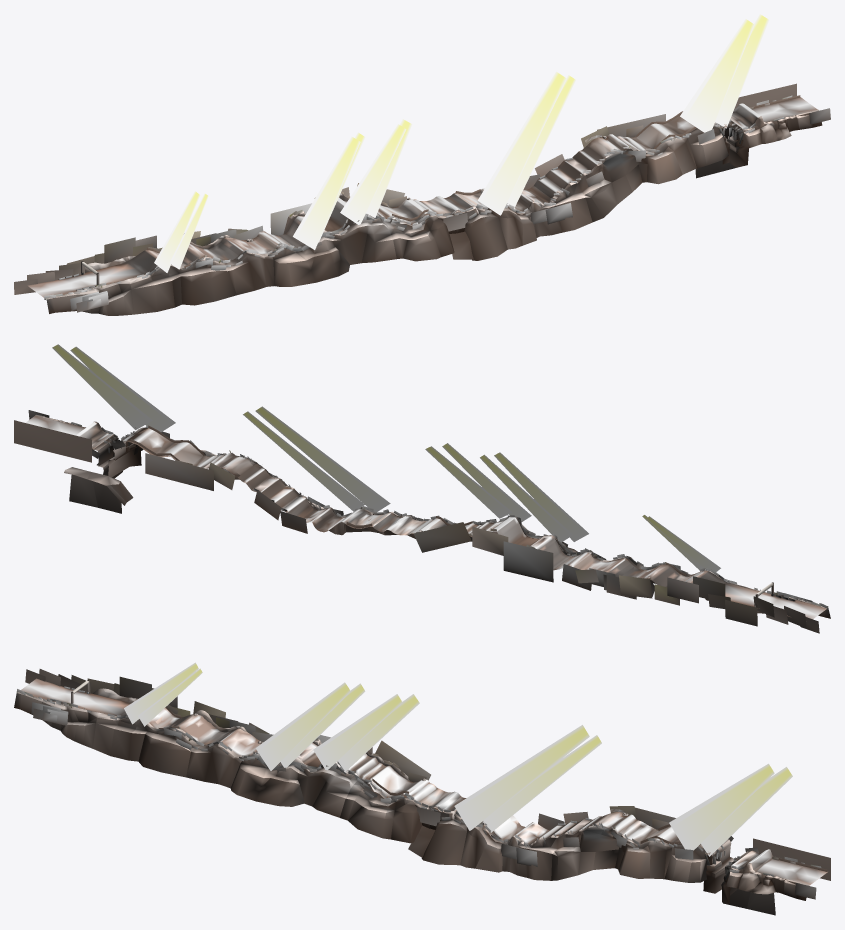
File: Forest_04.fbx
The picture shows the model from 3 angles, top to bottom: view 1: azimuth 30°, elevation 25°; view 2: azimuth 150°, elevation 25°; view 3: azimuth 330°, elevation 25°; orthographic projection. The views are drawn at different scales.
Parts seen in each view (by area): view 1: Mountain_01, Light_01, Ground_01, Tree_01, Leak_01; view 2: Tree_01, Light_01, Ground_01, Mountain_01; view 3: Mountain_01, Light_01, Tree_01, Ground_01, Leak_01.
Boxes of the visible parts, x1,y1,x2,y2 form: Mountain_01: (46,109,822,315); Light_01: (154,14,769,272); Ground_01: (27,97,817,297); Tree_01: (14,83,830,312); Leak_01: (147,95,800,267); Tree_01: (14,410,828,633); Light_01: (52,344,720,571); Ground_01: (25,415,826,619); Mountain_01: (35,414,830,618); Mountain_01: (14,688,809,915); Light_01: (124,662,792,856); Tree_01: (16,669,830,899); Ground_01: (21,678,827,885); Leak_01: (158,706,827,871).
Size of the model in its own units: 35930 by 6488 by 4200.
